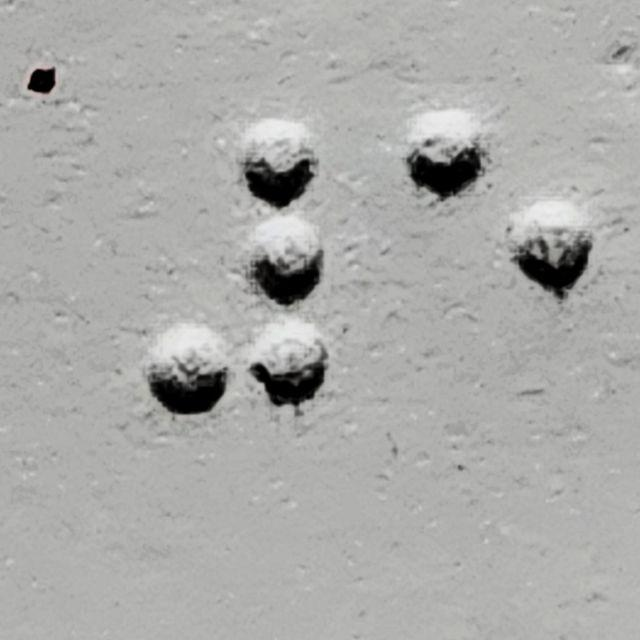5: (408, 109, 588, 404)
number: (147, 116, 328, 411)
